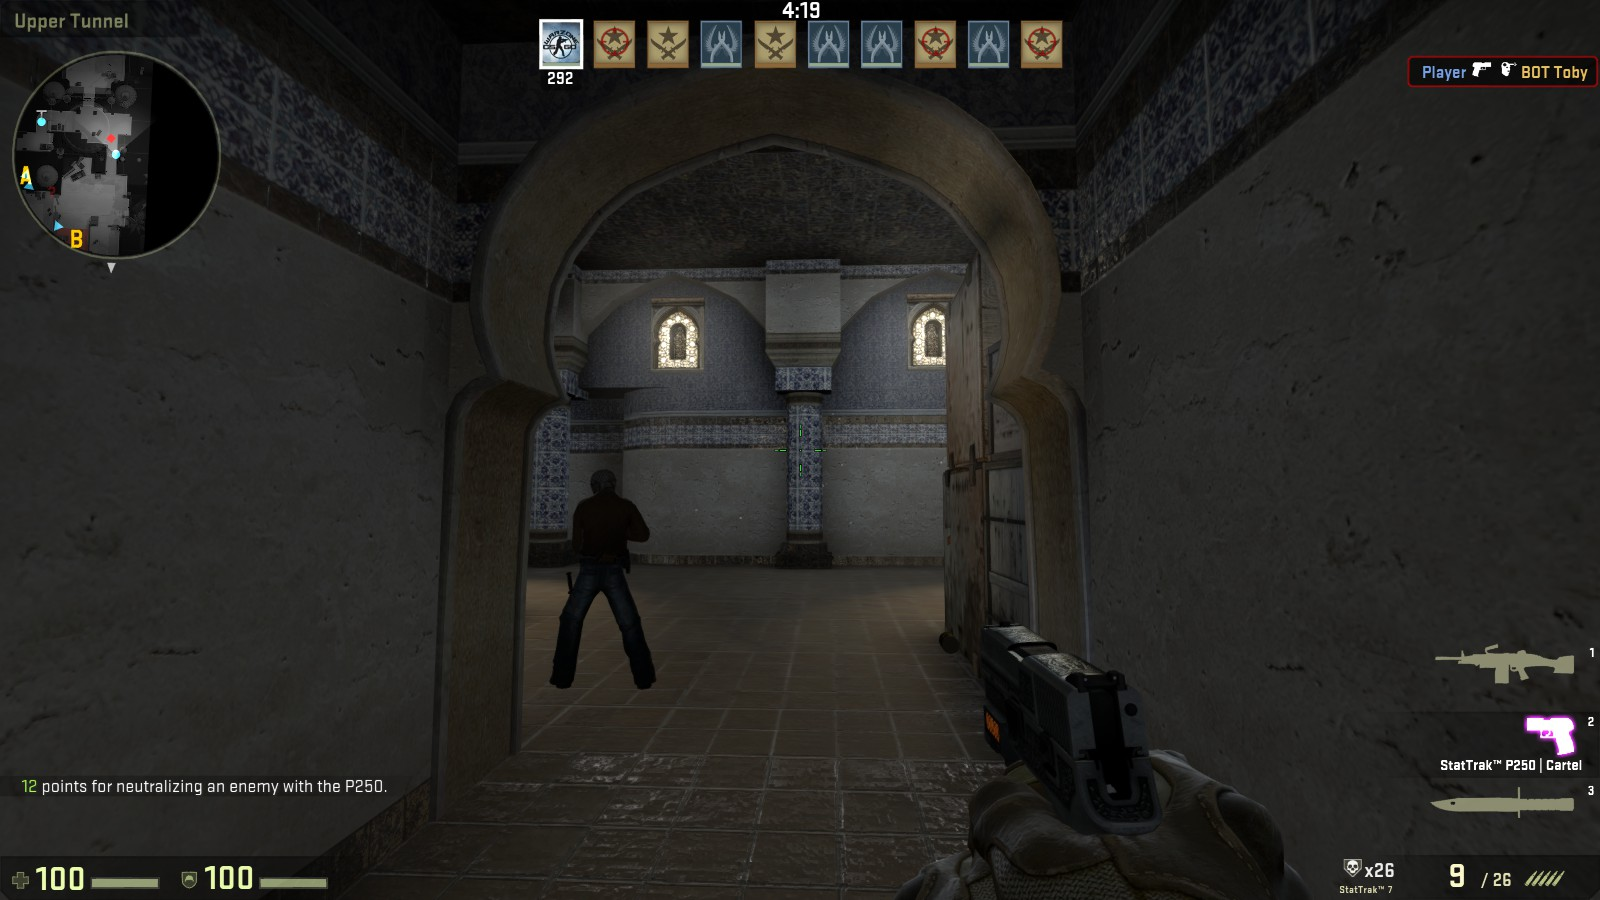t: (565, 465, 642, 689)
th: (584, 467, 619, 499)
